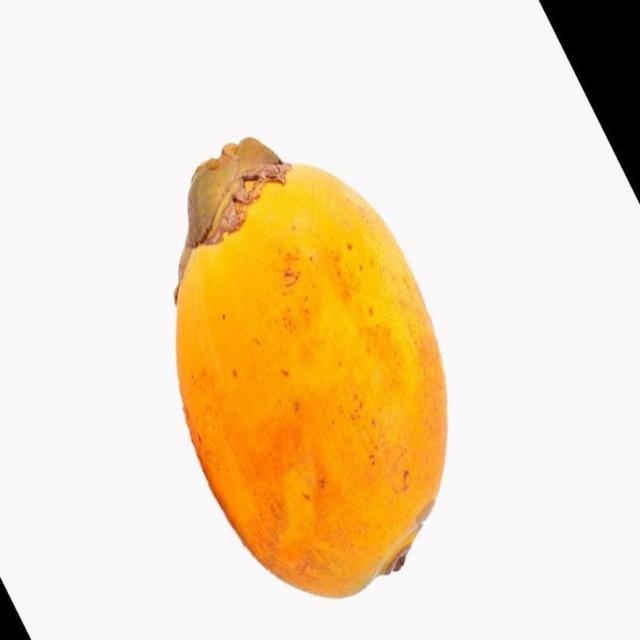good: (174, 138, 449, 602)
